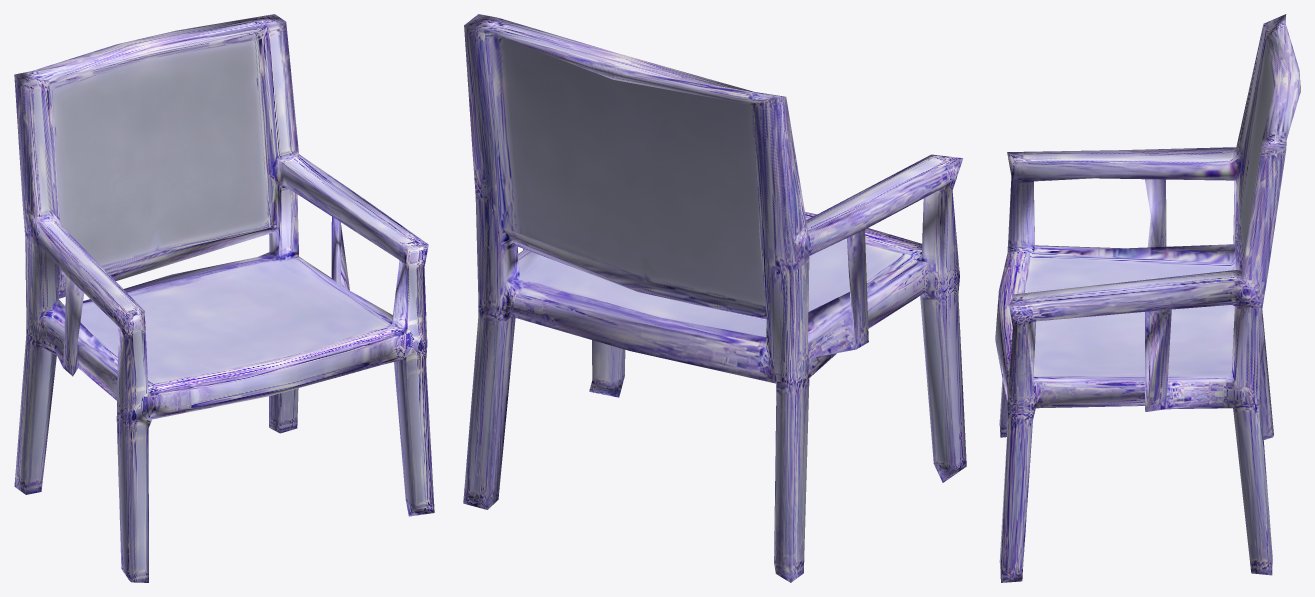
The model's file is tripo_convert_f3718270-dad9-4b53-ab84-3cf9d7abac40.fbx.
3 renders of one model, left to right at view 1: azimuth 30°, elevation 25°; view 2: azimuth 150°, elevation 25°; view 3: azimuth 270°, elevation 25°, orthographic. The views are drawn at different scales.
Visible parts, largest first — view 1: tripo_node_f3718270; view 2: tripo_node_f3718270; view 3: tripo_node_f3718270.
Boxes of the visible parts, x1=… form: tripo_node_f3718270: x1=14, y1=14, x2=434, y2=582; tripo_node_f3718270: x1=463, y1=14, x2=966, y2=582; tripo_node_f3718270: x1=995, y1=14, x2=1300, y2=582.
Bounding box in the file's own units: 0.7561 × 0.9725 × 0.6301.
Materials: 1 (1 with a texture image).
